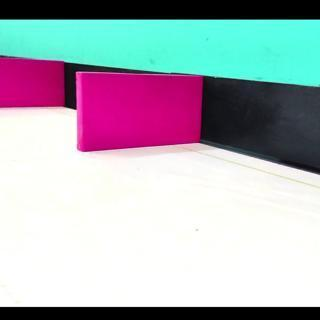xparking: (81, 74, 203, 151), (1, 62, 64, 107)
